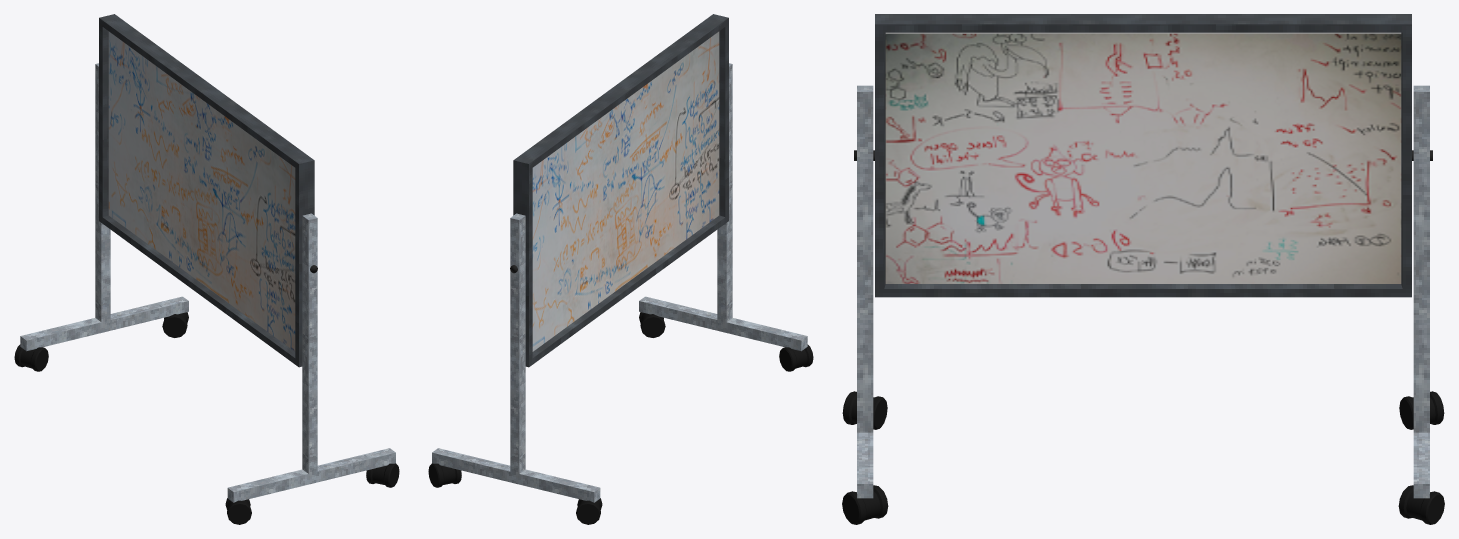
Rendered from whiteboard.glb.
3 renders of one model, left to right at view 1: azimuth 30°, elevation 25°; view 2: azimuth 150°, elevation 25°; view 3: azimuth 270°, elevation 25°, orthographic. The views are drawn at different scales.
Parts seen in each view (by area): view 1: WhiteBoardBoard, Whiteboard, Wheels; view 2: WhiteBoardBoard, Whiteboard, Wheels; view 3: WhiteBoardBoard, Whiteboard, Wheels.
Part boxes in pixels (x1,y1,x2,y2): WhiteBoardBoard: (99,14,317,367); Whiteboard: (20,63,395,502); Wheels: (14,312,399,524); WhiteBoardBoard: (510,14,728,367); Whiteboard: (432,63,807,502); Wheels: (428,312,813,524); WhiteBoardBoard: (854,14,1432,297); Whiteboard: (857,85,1429,498); Wheels: (842,391,1444,524).
Size of the model in its own units: 0.413 by 0.7699 by 0.9273.
Materials: 6 (4 with a texture image).
